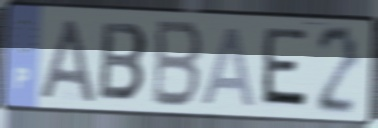2: (313, 22, 366, 119)
A: (37, 17, 99, 105), (200, 24, 259, 109)
B: (149, 16, 206, 112), (96, 18, 151, 105)
E: (256, 25, 310, 114)
